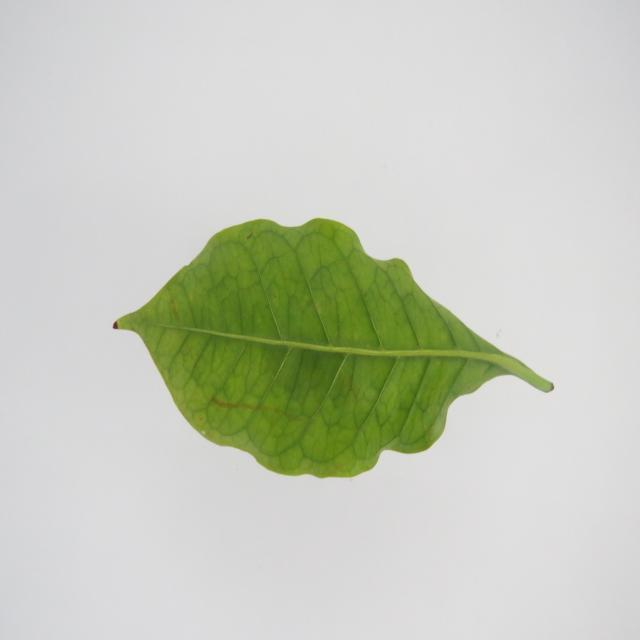DeficienciaNutricional-Calcio: (114, 218, 554, 477)
